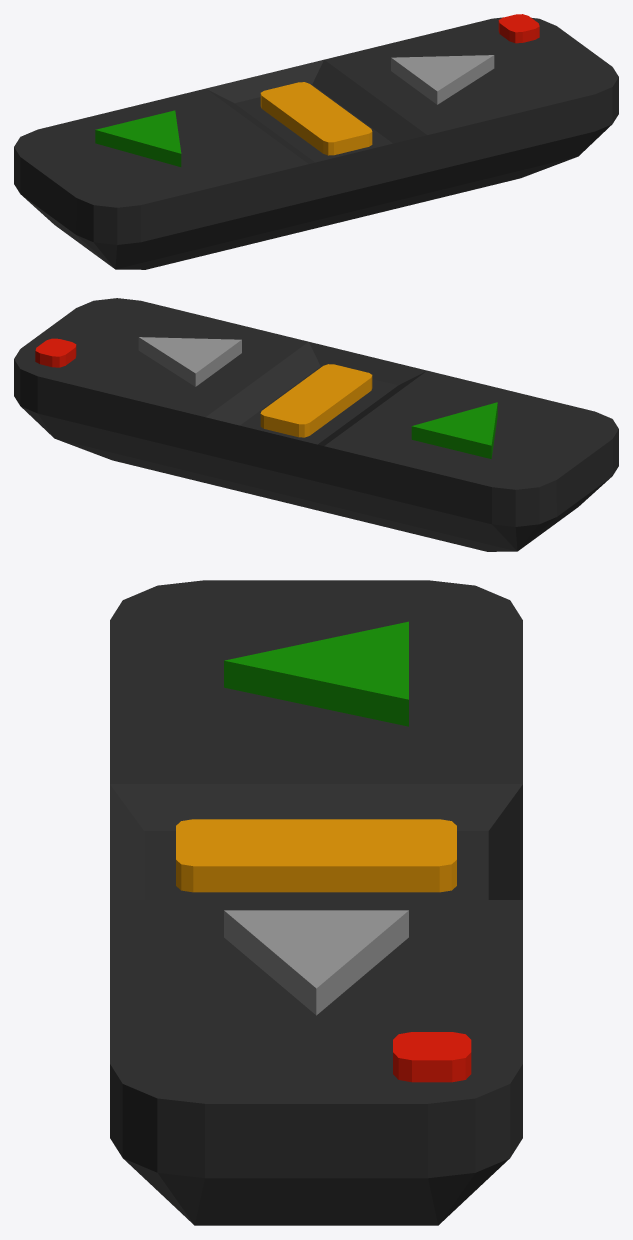
File: Remote.fbx
3 views of the same model, one above another, from view 1: azimuth 30°, elevation 25°; view 2: azimuth 150°, elevation 25°; view 3: azimuth 270°, elevation 25° (orthographic). The views are drawn at different scales.
Visible parts, largest first — view 1: Remote, ButtonJoin, Cube, Cube.001, ButtonOnOff; view 2: Remote, ButtonJoin, Cube, Cube.001, ButtonOnOff; view 3: Remote, ButtonJoin, Cube, Cube.001, ButtonOnOff.
Part boxes in pixels (x1=…): Remote: x1=14, y1=17, x2=618, y2=269; ButtonJoin: x1=260, y1=82, x2=372, y2=155; Cube: x1=391, y1=55, x2=494, y2=104; Cube.001: x1=95, y1=110, x2=181, y2=166; ButtonOnOff: x1=498, y1=14, x2=539, y2=43; Remote: x1=14, y1=298, x2=618, y2=551; ButtonJoin: x1=260, y1=364, x2=372, y2=437; Cube: x1=138, y1=337, x2=241, y2=386; Cube.001: x1=411, y1=402, x2=497, y2=458; ButtonOnOff: x1=35, y1=338, x2=76, y2=367; Remote: x1=110, y1=580, x2=522, y2=1225; ButtonJoin: x1=176, y1=819, x2=456, y2=892; Cube: x1=224, y1=910, x2=408, y2=1015; Cube.001: x1=224, y1=621, x2=408, y2=726; ButtonOnOff: x1=393, y1=1032, x2=471, y2=1082.
Size of the model in its own units: 12 by 2.43 by 4.
